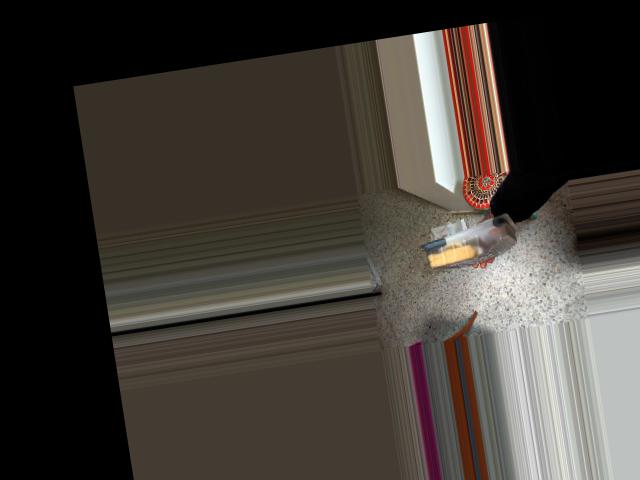cheese: (419, 208, 524, 273)
